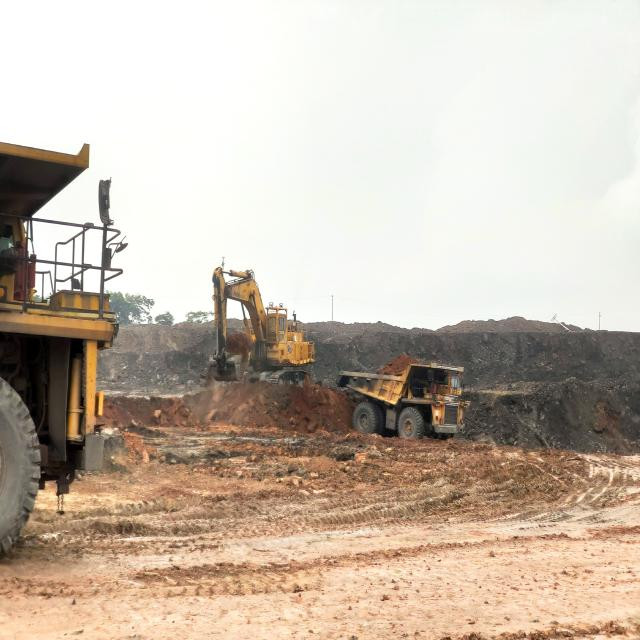dump_truck: (0, 141, 123, 560), (334, 358, 470, 438)
excavator: (214, 270, 314, 385)
